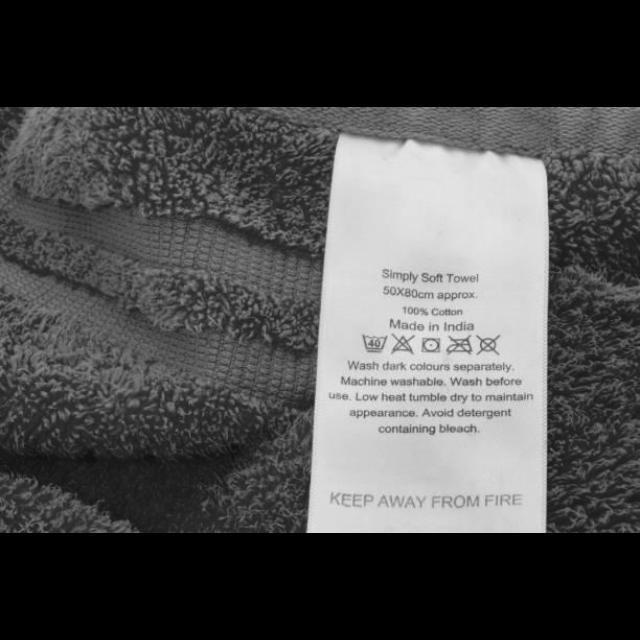40C: (359, 332, 388, 354)
DN_bleach: (389, 330, 416, 358)
DN_dry_clean: (474, 332, 502, 358)
DN_iron: (445, 334, 475, 354)
tumble_dry_low: (420, 336, 442, 356)
